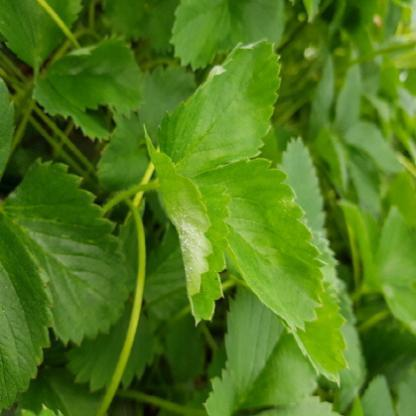Strawberry_Powdery_Mildew_Leaf: (142, 123, 233, 327), (155, 37, 281, 176)
